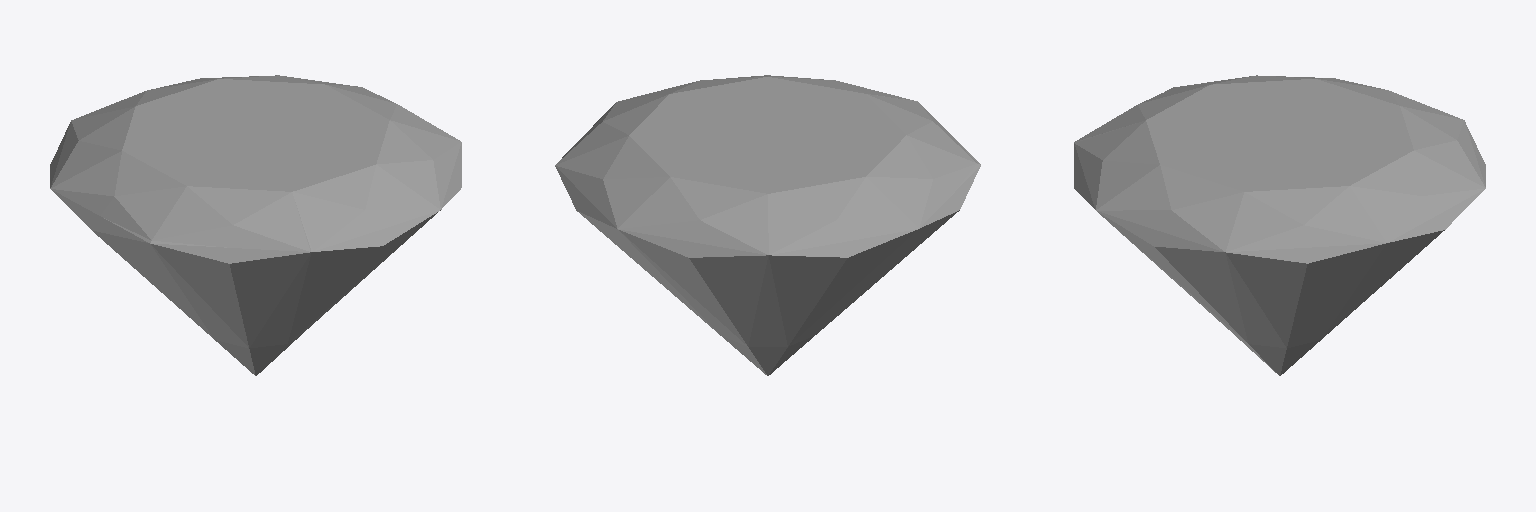
File: diamond.obj
3 renders of one model, left to right at view 1: azimuth 30°, elevation 25°; view 2: azimuth 150°, elevation 25°; view 3: azimuth 270°, elevation 25°, orthographic.
Parts seen in each view (by area): view 1: Diamond_Cone; view 2: Diamond_Cone; view 3: Diamond_Cone.
Part boxes in pixels (left/top/right/bottom): Diamond_Cone: left=50, top=75, right=461, bottom=375; Diamond_Cone: left=555, top=75, right=980, bottom=375; Diamond_Cone: left=1074, top=75, right=1485, bottom=375.
Bounding box in the file's own units: 3.28 × 2.12 × 3.28.